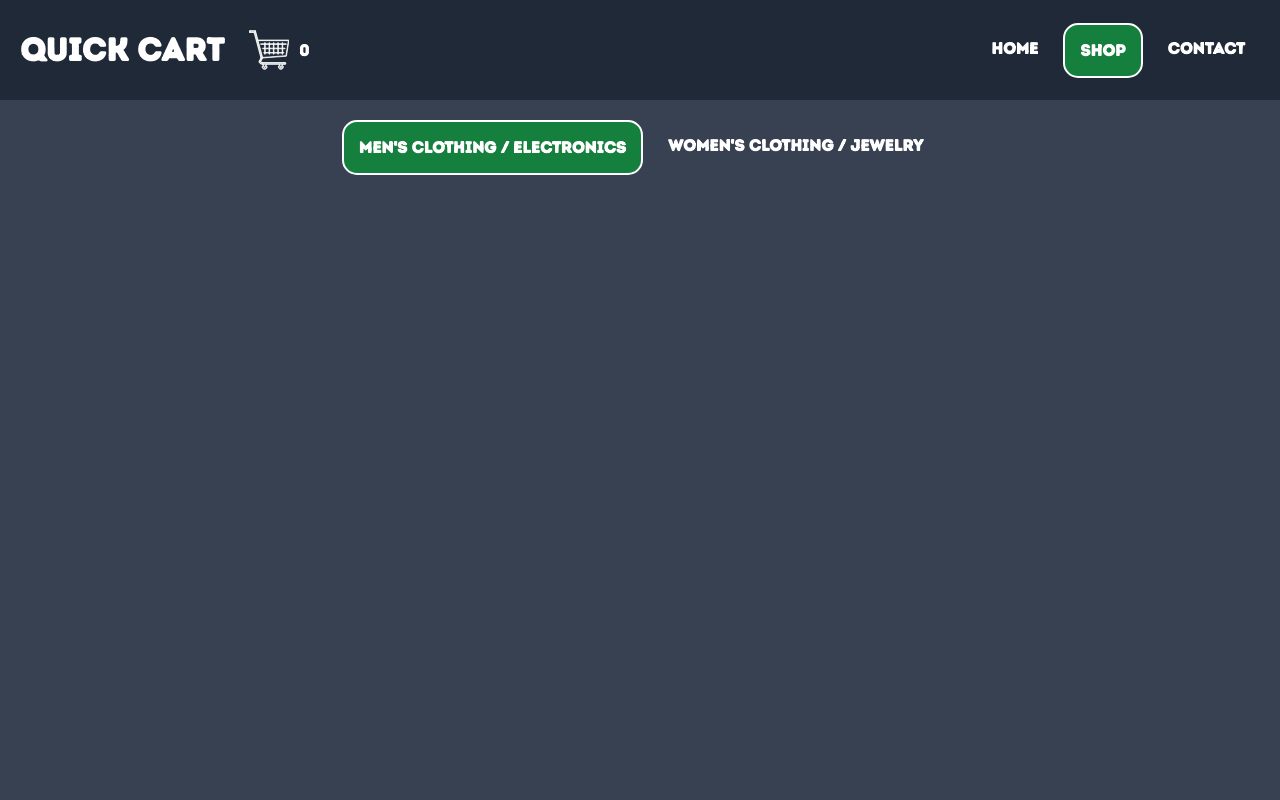
Scenario: App component tests › shows checkout page when contact clicked
The width and height of the screenshot is (1280, 800).
Step 1. Click the link with test id "checkout" → {"x": 279, "y": 50}, box [249,30,309,70]
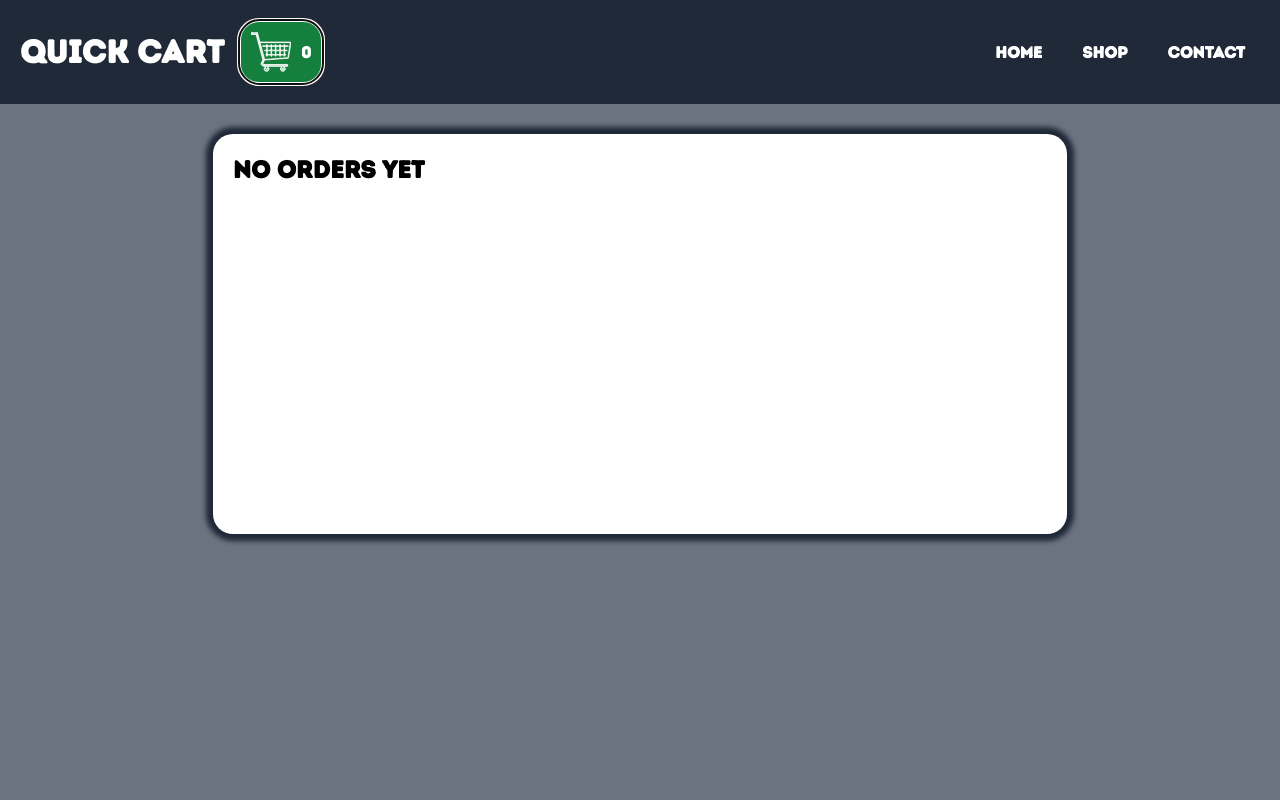
Now the element with test id "orderdiv" is shown, box [233,154,424,186]
